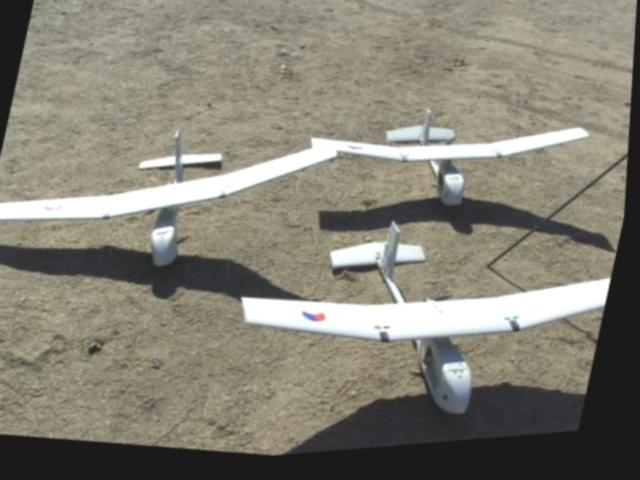uav: (289, 204, 625, 457), (0, 96, 340, 309), (342, 92, 600, 242)
